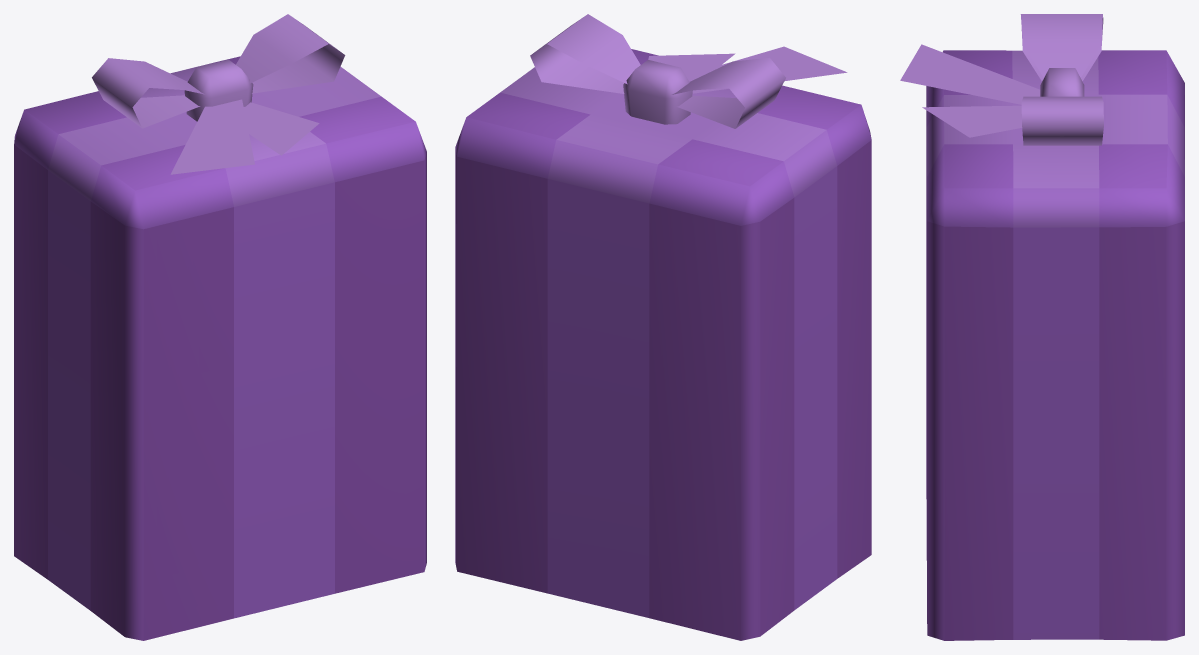
File: Gift_Christmas6.fbx
3 views of the same model, side by side, from view 1: azimuth 30°, elevation 25°; view 2: azimuth 150°, elevation 25°; view 3: azimuth 270°, elevation 25° (orthographic).
Parts seen in each view (by area): view 1: Gift_Christmas6; view 2: Gift_Christmas6; view 3: Gift_Christmas6.
Part boxes in pixels (x1,y1,x2,y2): Gift_Christmas6: [14, 14, 426, 640]; Gift_Christmas6: [455, 14, 871, 640]; Gift_Christmas6: [900, 14, 1184, 640].
Size of the model in its own units: 50.78 by 81.13 by 41.12.
